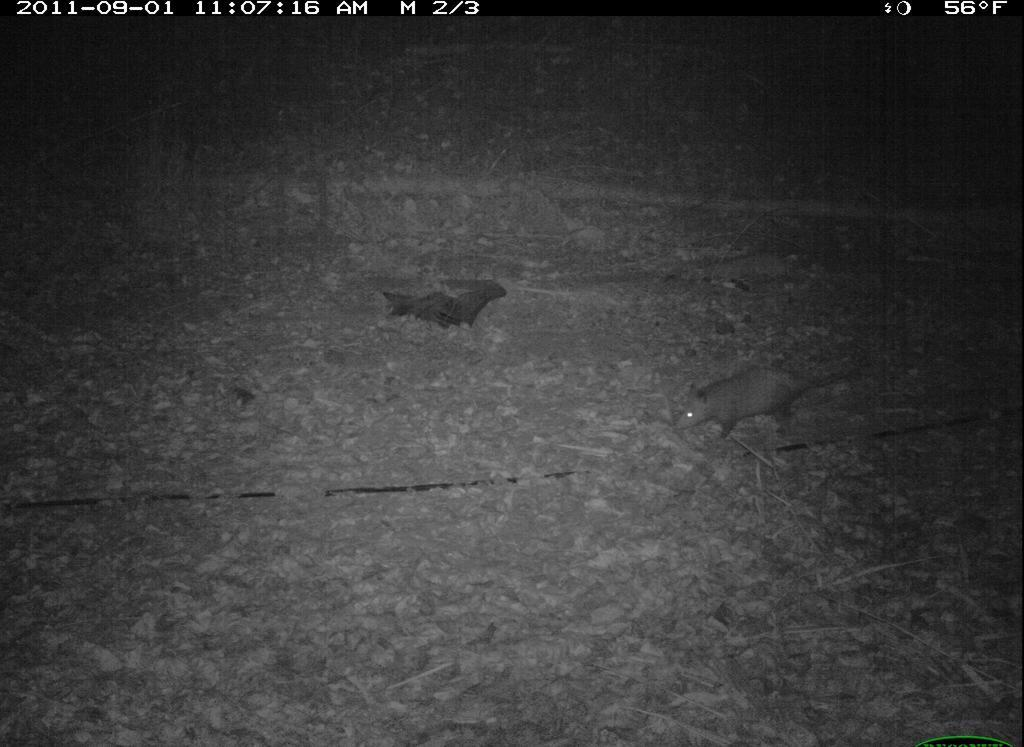opossum: (670, 358, 891, 449)
